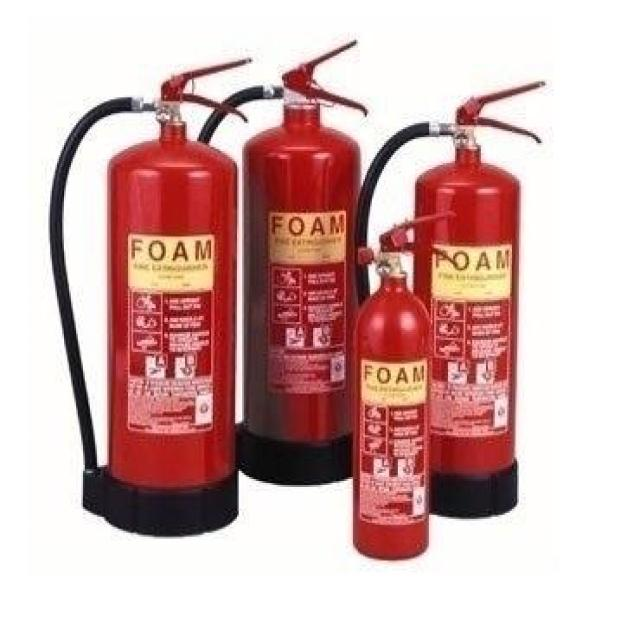fire_extinguisher: (44, 52, 255, 540), (345, 76, 551, 518), (176, 33, 369, 494), (344, 205, 460, 564)
